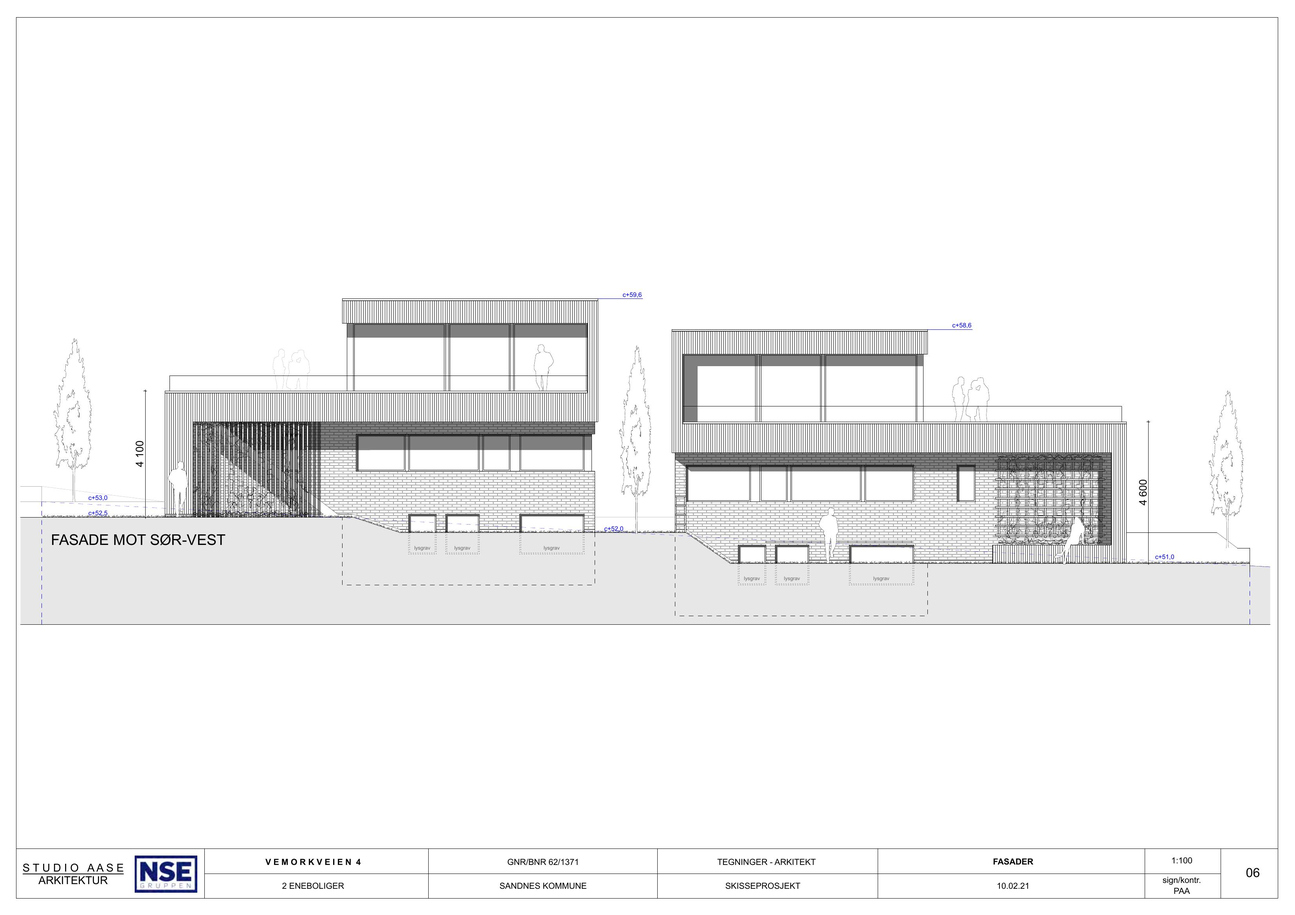fasade: (162, 295, 601, 628), (668, 324, 1131, 626)
